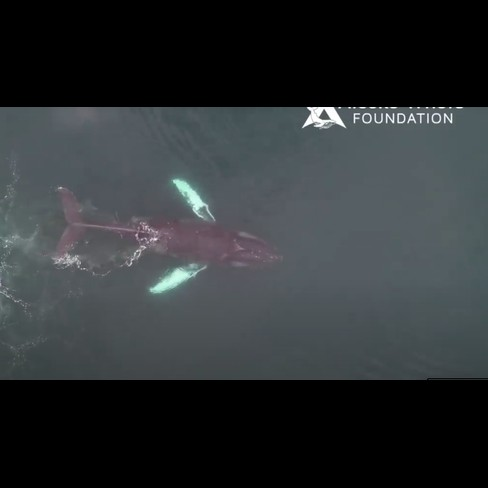hump: (42, 168, 292, 298)
